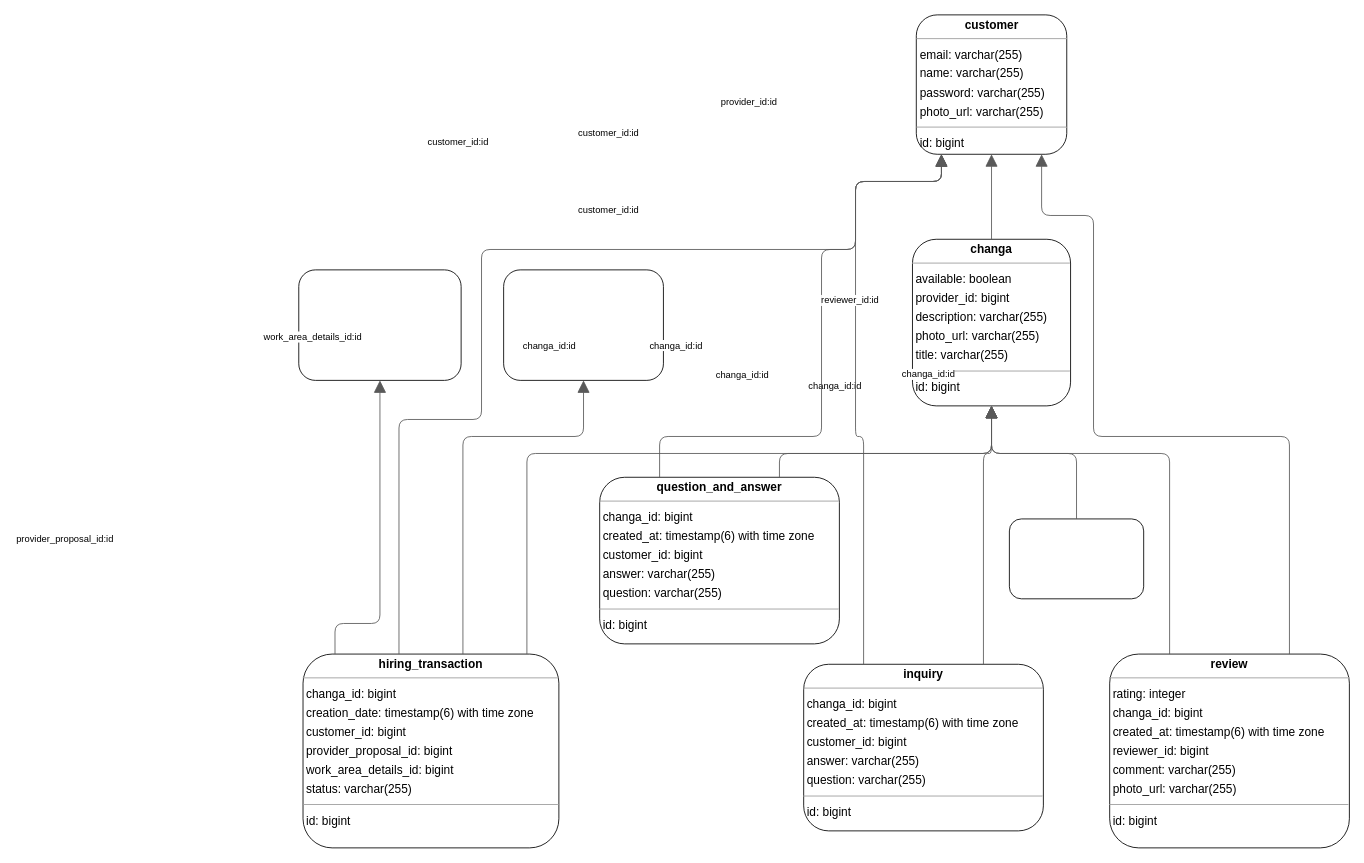
The diagram is 1364 pixels wide and 863 high, and some of its shapes have lost their labels. Each missing label, with the centre of its shape:
changa_topics changa_id: bigint topics: varchar(255): [1076,558]
provider_proposal price: numeric(38,2) message: varchar(255) id: bigint: [379,324]
work_area_details description: varchar(255) photo_url: varchar(255) id: bigint: [583,324]
